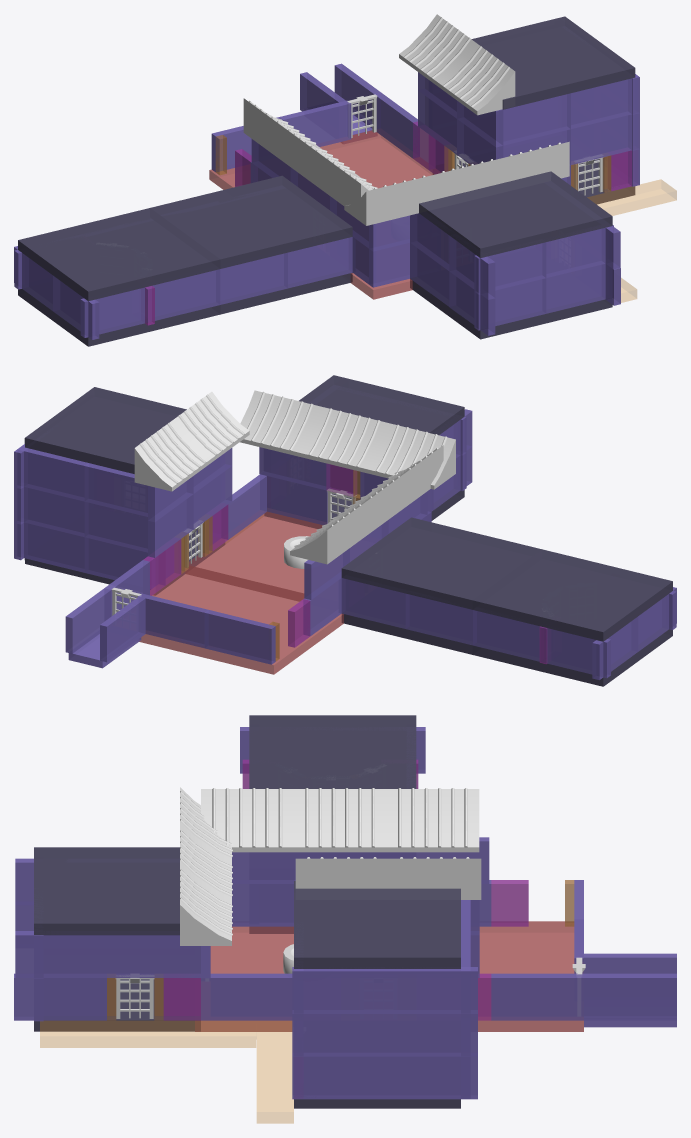
File: West Area 1.fbx
3 views of the same model, one above another, from view 1: azimuth 30°, elevation 25°; view 2: azimuth 150°, elevation 25°; view 3: azimuth 270°, elevation 25° (orthographic). The views are drawn at different scales.
Visible parts, largest first — view 1: Module_011.005, Module_011.006, Module_011.007, Module_011.008, Module_015.001, Module_026.003, Module_026.004, Module_011.003, Module_026.002, Module_011.002, Module_09.035, Module_09.044 (+50 smaller); view 2: Module_011.005, Module_011.006, Module_015.001, Module_011.008, Module_015.002, Module_011.007, Module_026, Module_026.001, Module_026.004, Module_026.002, Module_09.002, Module_026.003 (+50 smaller); view 3: Module_011.008, Module_011.007, Module_011.005, Module_015.001, Module_026.006, Module_026.007, Module_020.002, Module_026.005, Module_011.002, Module_015.002, Module_09.007, Module_09.003 (+30 smaller).
Boxes of the visible parts, x1,y1,x2,y2 form: Module_011.005: [18, 208, 220, 301]; Module_011.006: [150, 175, 352, 268]; Module_011.007: [419, 171, 612, 258]; Module_011.008: [471, 16, 635, 109]; Module_015.001: [209, 130, 440, 189]; Module_026.003: [438, 43, 515, 115]; Module_026.004: [399, 14, 475, 86]; Module_011.003: [18, 287, 220, 346]; Module_026.002: [344, 175, 433, 225]; Module_011.002: [410, 277, 612, 339]; Module_09.035: [216, 252, 287, 304]; Module_09.044: [499, 93, 570, 145]; Module_011.005: [472, 549, 672, 641]; Module_011.006: [341, 517, 541, 609]; Module_015.001: [139, 565, 343, 674]; Module_011.008: [24, 387, 186, 473]; Module_015.002: [187, 511, 322, 600]; Module_011.007: [299, 375, 464, 435]; Module_026: [300, 407, 388, 473]; Module_026.001: [240, 390, 321, 456]; Module_026.004: [134, 420, 210, 491]; Module_026.002: [367, 423, 455, 489]; Module_09.002: [204, 610, 275, 664]; Module_026.003: [173, 391, 249, 462]; Module_011.008: [294, 881, 460, 968]; Module_011.007: [34, 847, 179, 935]; Module_011.005: [249, 715, 416, 788]; Module_015.001: [478, 921, 583, 1031]; Module_026.006: [293, 788, 386, 852]; Module_026.007: [386, 788, 479, 852]; Module_020.002: [40, 1021, 256, 1047]; Module_026.005: [201, 788, 293, 852]; Module_011.002: [34, 978, 200, 1031]; Module_015.002: [195, 926, 293, 1031]; Module_09.007: [584, 973, 676, 1020]; Module_09.003: [491, 973, 583, 1020].
Bounding box in the file's own units: 9919 × 2444 × 8064.
